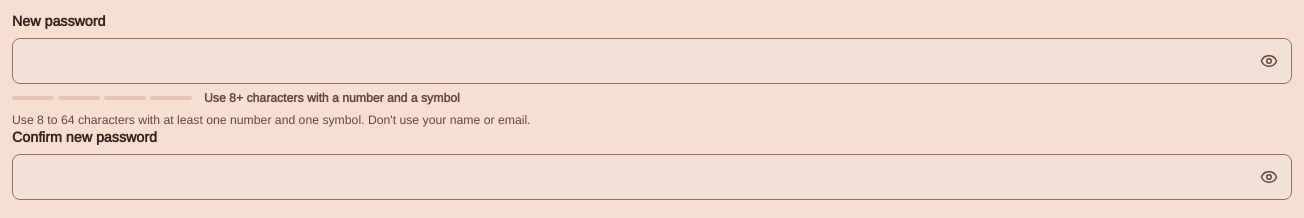
Test: NewPasswordFields › allows paste into both fields
The image size is (1304, 218).
Click the password field labelled "New password" at (652,61), box [13, 39, 1291, 83]
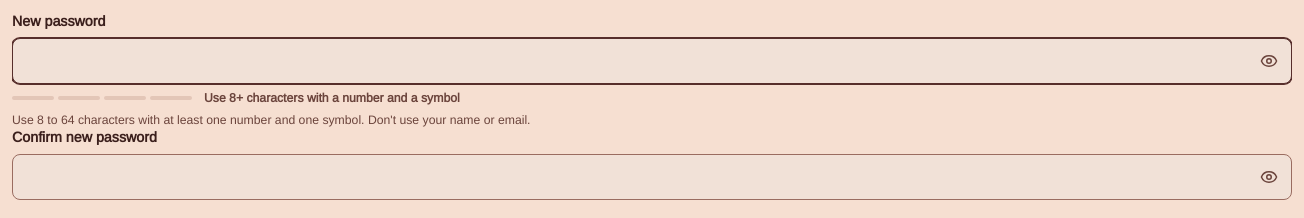
Type keys "Mabuhay#Tahi2026"
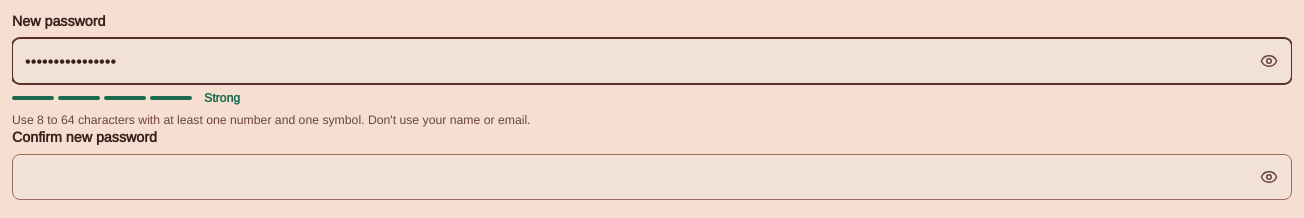
Click the password field labelled "Confirm new password" at (652,177), box [13, 155, 1291, 199]
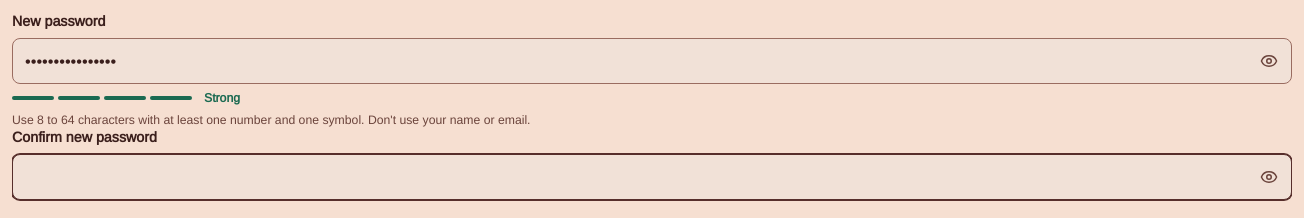
Type keys "Mabuhay#Tahi2026"
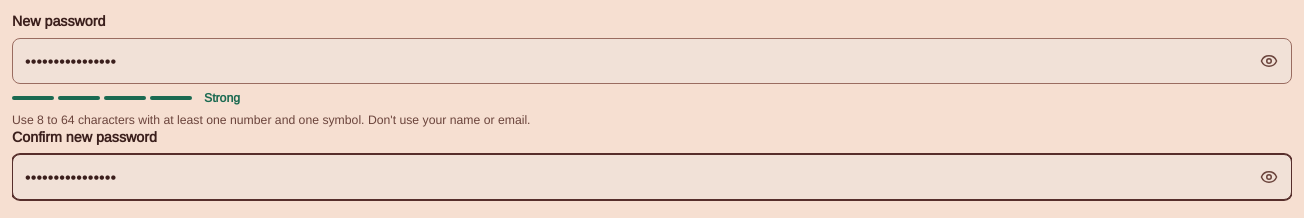
Now the password field labelled "New password" holds "Mabuhay#Tahi2026", box [13, 39, 1291, 83]
Now the password field labelled "Confirm new password" holds "Mabuhay#Tahi2026", box [13, 155, 1291, 199]
